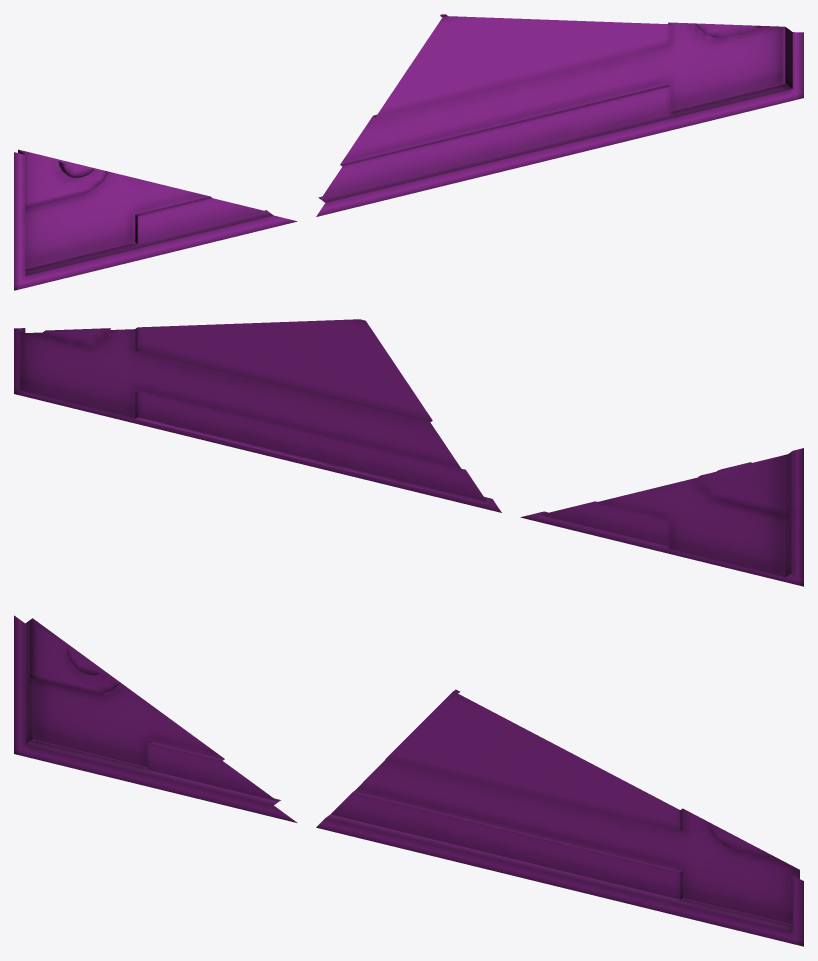
The model's file is sc_finalBoss_slideDoorB_destroyed_B.FBX.
3 views of the same model, one above another, from view 1: azimuth 30°, elevation 25°; view 2: azimuth 150°, elevation 25°; view 3: azimuth 330°, elevation 25° (orthographic).
Parts seen in each view (by area): view 1: finalBoss_slideDoorB_destroyed_B; view 2: finalBoss_slideDoorB_destroyed_B; view 3: finalBoss_slideDoorB_destroyed_B.
Part boxes in pixels (left/top/right/bottom): finalBoss_slideDoorB_destroyed_B: left=14, top=14, right=803, bottom=290; finalBoss_slideDoorB_destroyed_B: left=14, top=319, right=803, bottom=586; finalBoss_slideDoorB_destroyed_B: left=14, top=615, right=803, bottom=946.
Size of the model in its own units: 25.36 by 5.07 by 0.4074.
